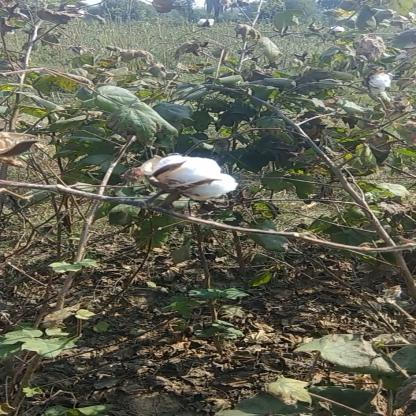cotton_ready: (116, 141, 266, 210)
